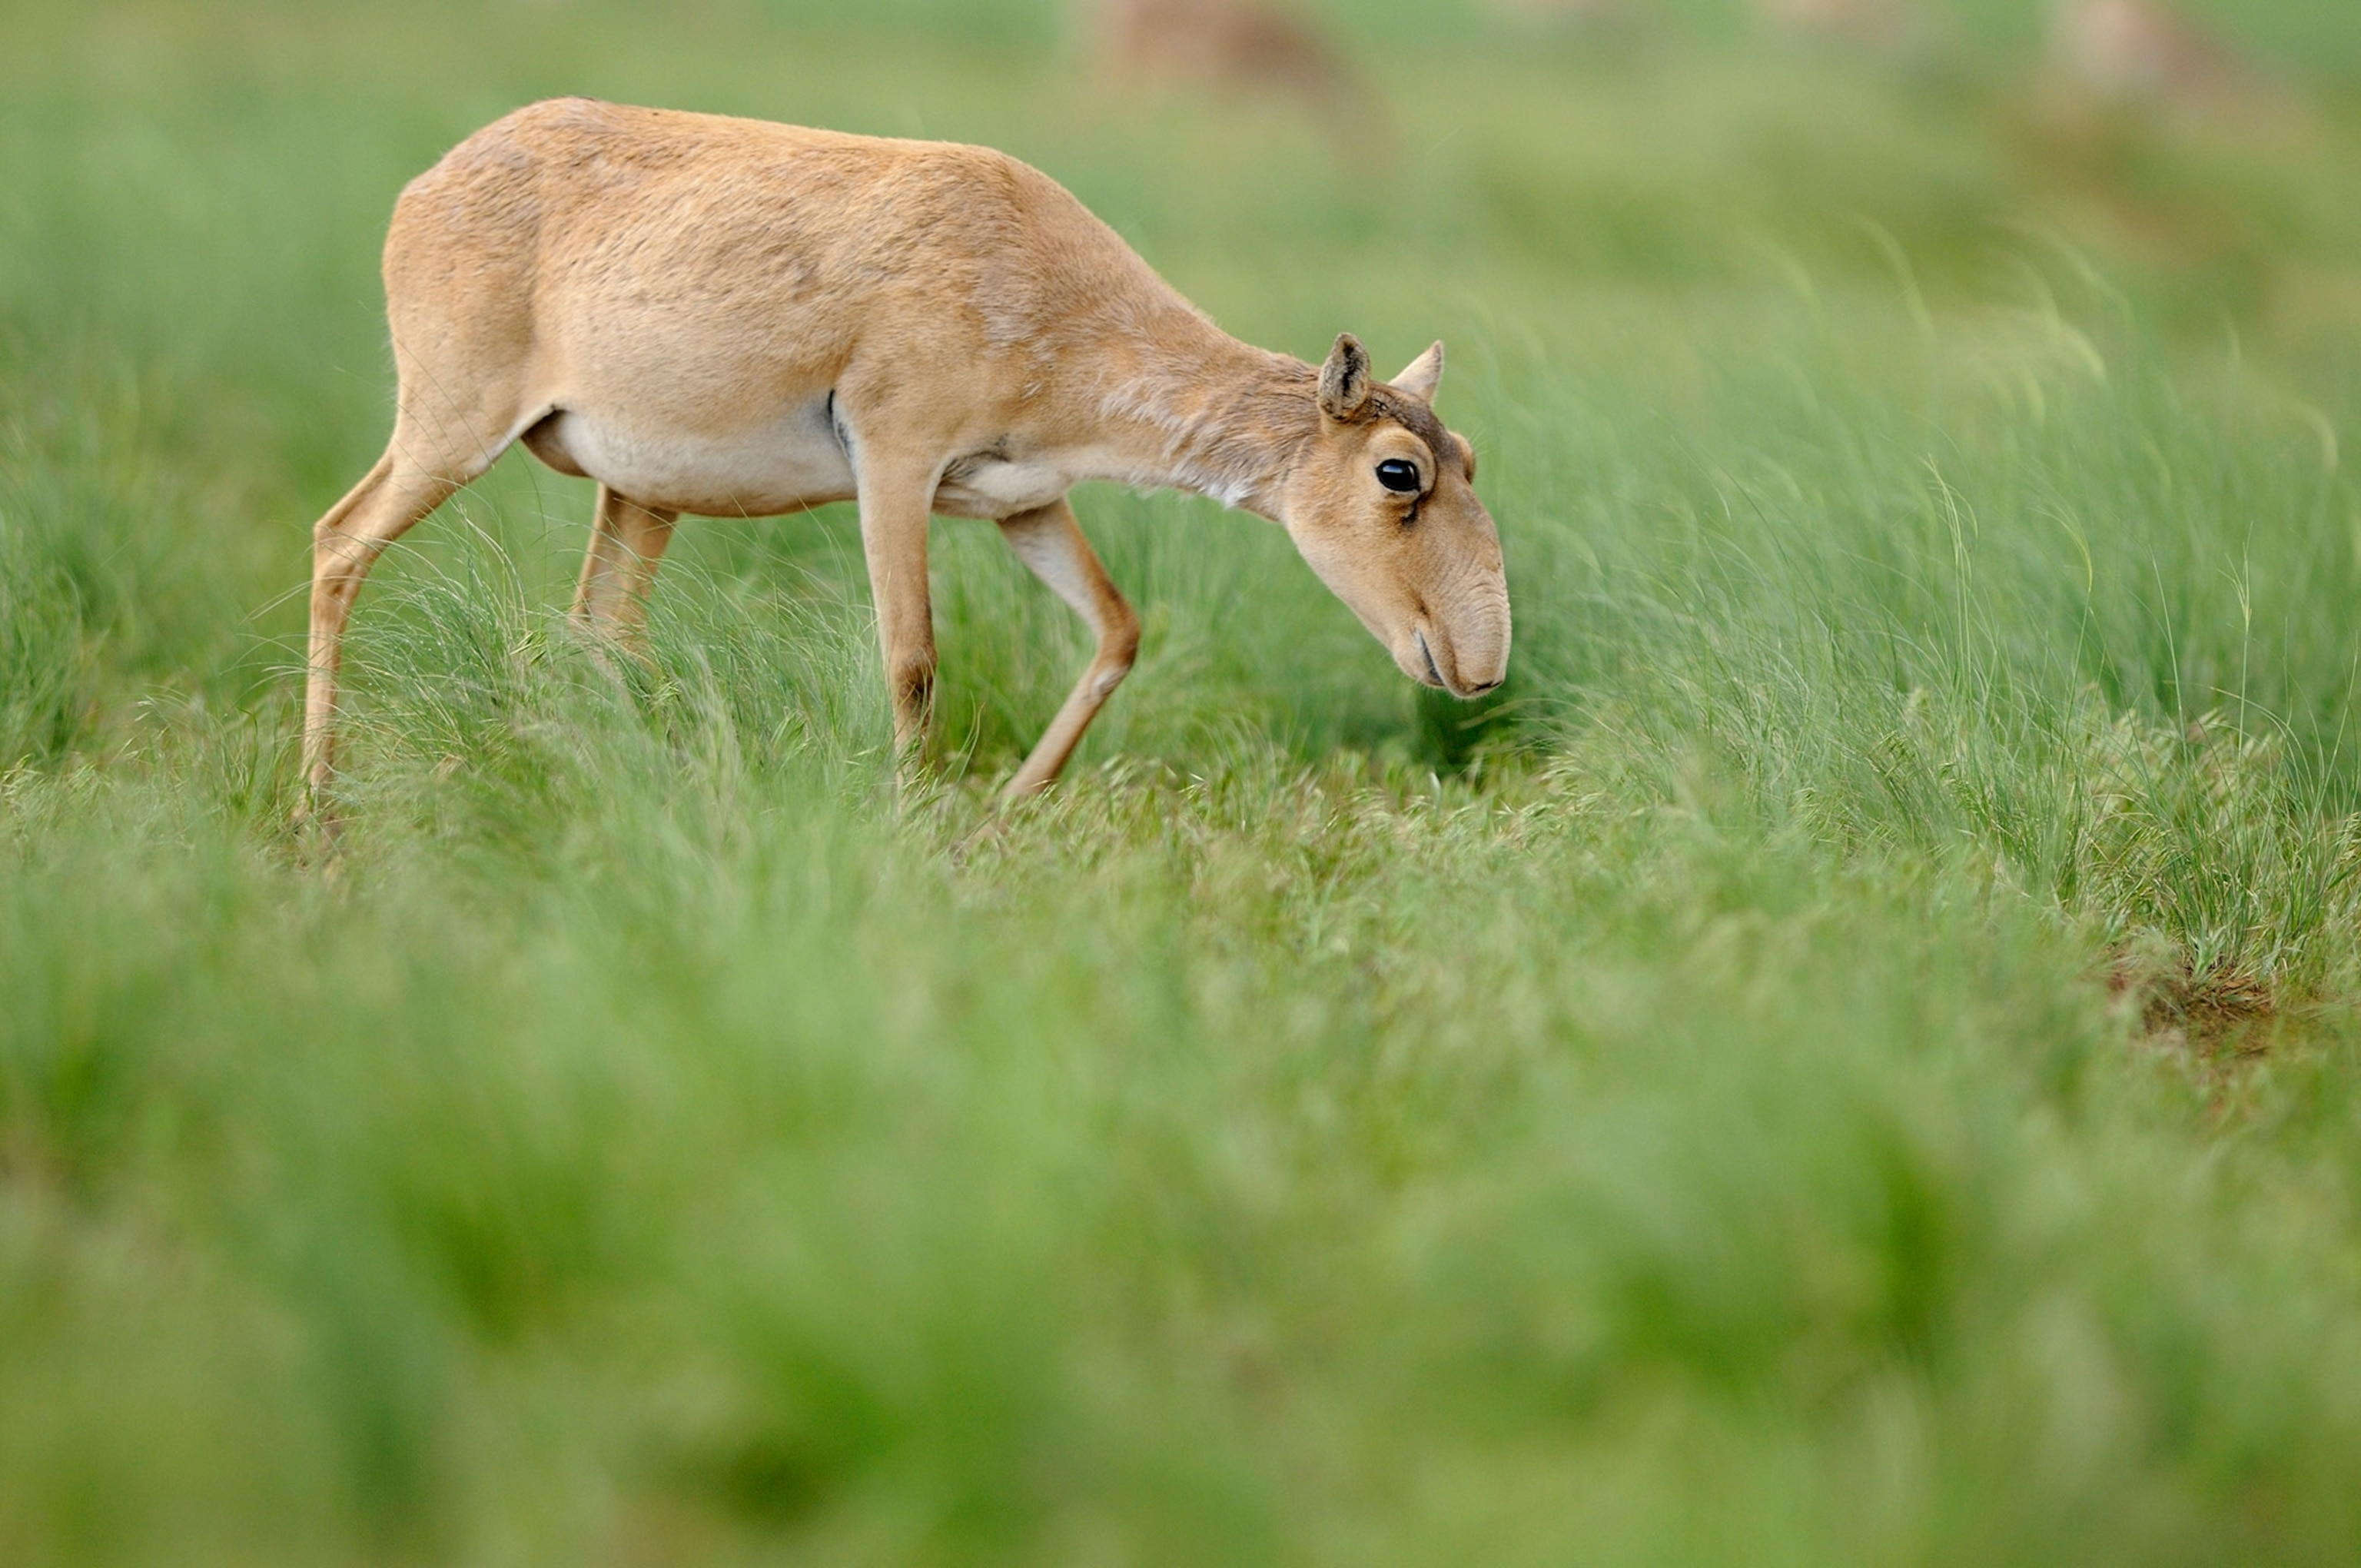saiga: (292, 79, 1529, 917)
